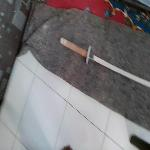Pedang: (53, 24, 150, 94)
